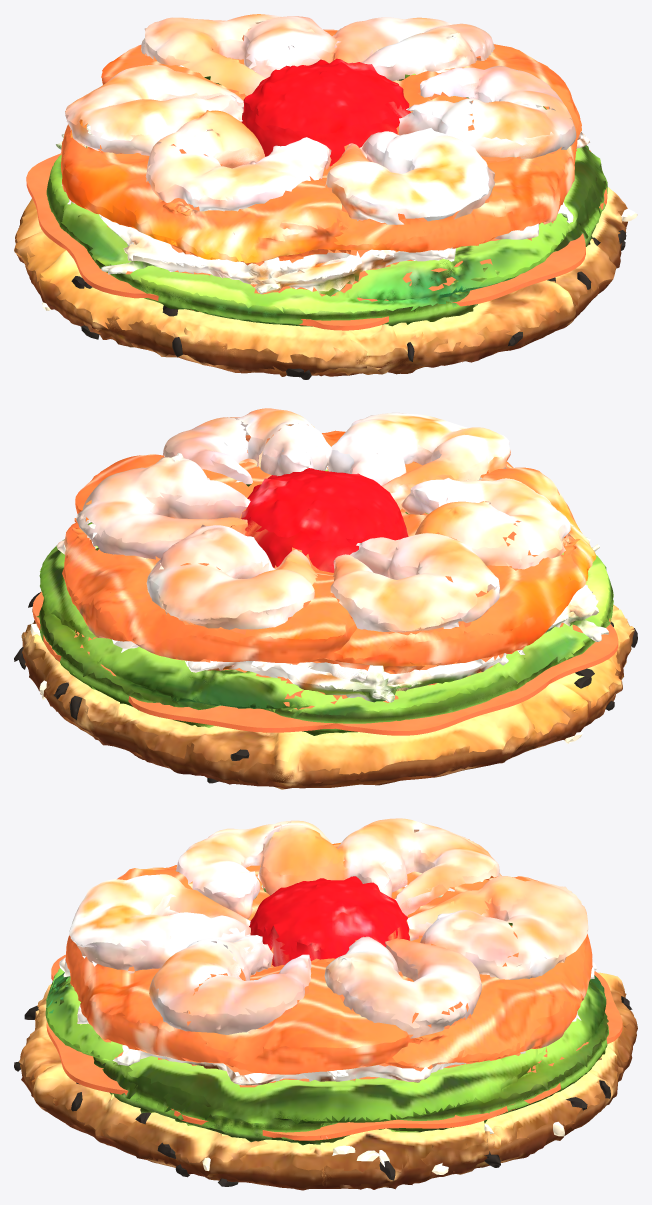
Rendered from sushi_pizza.glb.
The picture shows the model from 3 angles, top to bottom: view 1: azimuth 30°, elevation 25°; view 2: azimuth 150°, elevation 25°; view 3: azimuth 270°, elevation 25°; orthographic projection.
Visible parts, largest first — view 1: ing_shrimp, ing_mozzaRice, ing_salmon, ing_avocado, ing_tobiko, ing_crabstick, ing_mayo, ing_sesame; view 2: ing_shrimp, ing_salmon, ing_mozzaRice, ing_avocado, ing_tobiko, ing_mayo, ing_crabstick, ing_sesame; view 3: ing_shrimp, ing_salmon, ing_mozzaRice, ing_avocado, ing_tobiko, ing_mayo, ing_crabstick, ing_sesame.
Boxes of the visible parts, bbox=[...] form: ing_shrimp: bbox=[65, 14, 576, 224]; ing_mozzaRice: bbox=[14, 187, 627, 376]; ing_salmon: bbox=[61, 29, 581, 265]; ing_avocado: bbox=[46, 73, 607, 326]; ing_tobiko: bbox=[241, 58, 410, 166]; ing_crabstick: bbox=[56, 65, 589, 296]; ing_mayo: bbox=[26, 89, 607, 330]; ing_sesame: bbox=[42, 208, 637, 379]; ing_shrimp: bbox=[76, 408, 570, 632]; ing_salmon: bbox=[62, 430, 596, 673]; ing_mozzaRice: bbox=[21, 604, 634, 789]; ing_avocado: bbox=[36, 469, 613, 735]; ing_tobiko: bbox=[241, 468, 408, 572]; ing_mayo: bbox=[32, 499, 618, 735]; ing_crabstick: bbox=[56, 466, 608, 702]; ing_sesame: bbox=[14, 590, 637, 783]; ing_shrimp: bbox=[69, 818, 588, 1038]; ing_salmon: bbox=[65, 843, 592, 1074]; ing_mozzaRice: bbox=[19, 972, 637, 1190]; ing_avocado: bbox=[45, 897, 608, 1145]; ing_tobiko: bbox=[249, 876, 409, 966]; ing_mayo: bbox=[46, 898, 622, 1140]; ing_crabstick: bbox=[59, 884, 597, 1085]; ing_sesame: bbox=[14, 996, 632, 1186].
Size of the model in its own units: 0.1475 by 0.0509 by 0.1499.
1 material, 1 textured.
